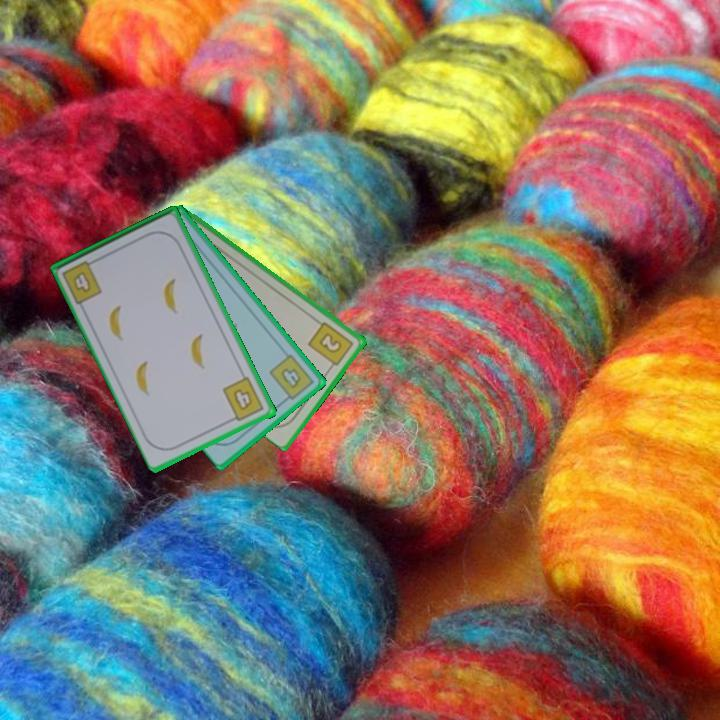2b: (305, 318, 357, 372)
4b: (266, 350, 317, 405), (219, 374, 267, 425), (70, 268, 94, 296)
